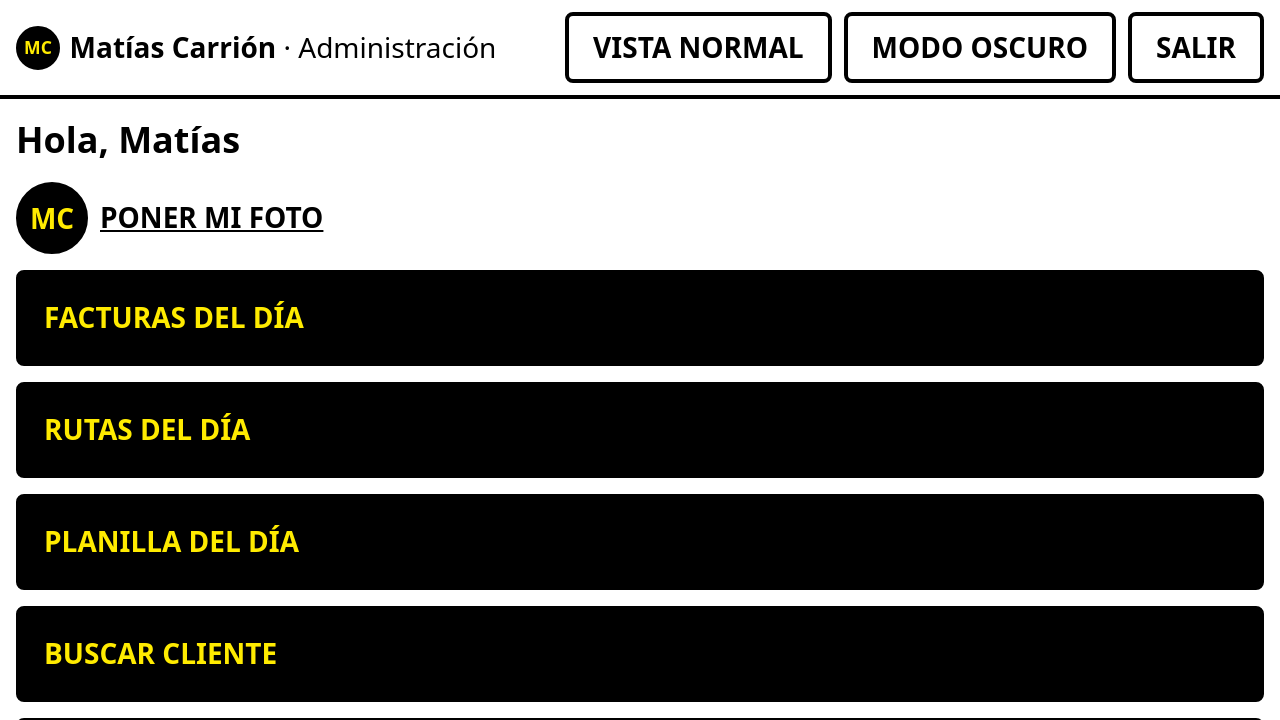
Test: vista grande o normal › con una vista ya elegida no vuelve a preguntar, y el botón de la cabecera cambia de vista
Expected: the heading "Hola, Matías" is shown, [16, 115, 240, 164]
Step 1. Click the button with aria-label "Cambiar a normal" → (698, 48), box [565, 12, 832, 83]
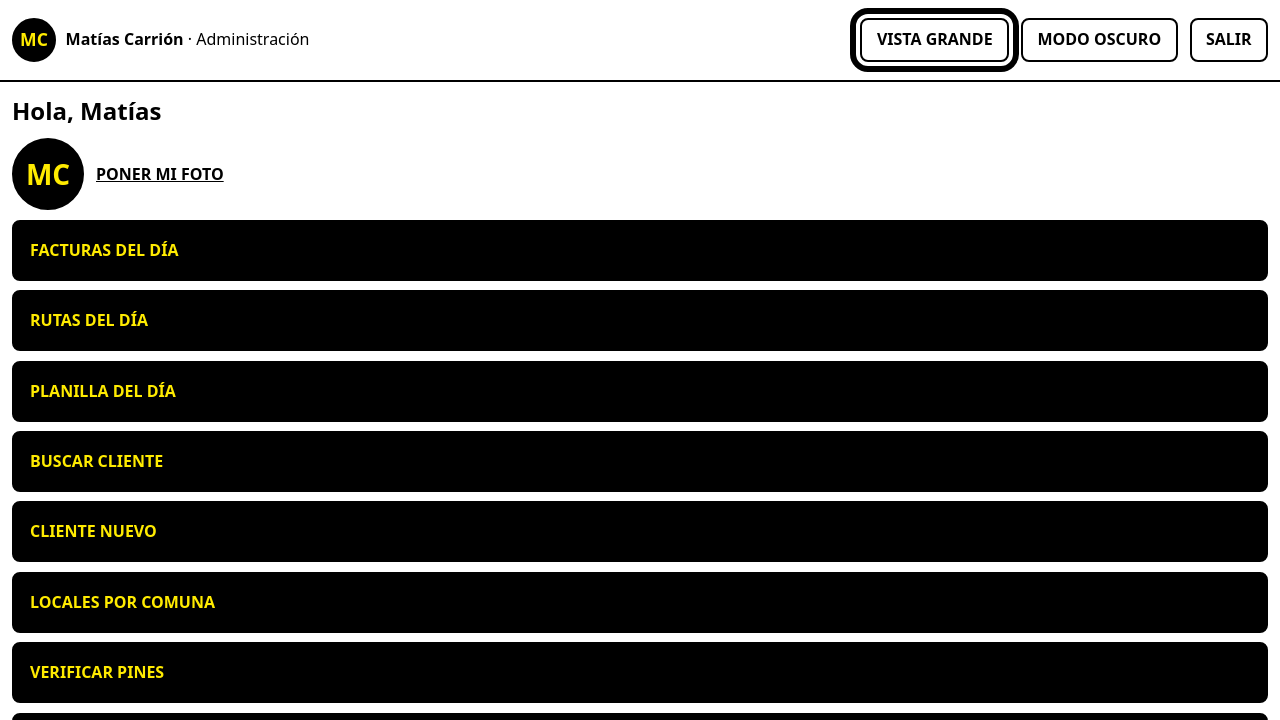
Result: the button with aria-label "Cambiar a grande" reads "VISTA GRANDE" at [860, 18, 1009, 62]
